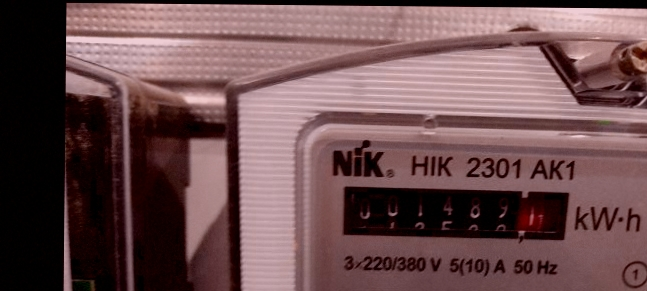0: (383, 191, 400, 216), (356, 195, 372, 220)
1: (412, 190, 427, 219), (524, 197, 537, 227)
4: (439, 191, 456, 218)
8: (465, 192, 483, 219)
9: (494, 194, 510, 219)
screen: (327, 174, 584, 253)
